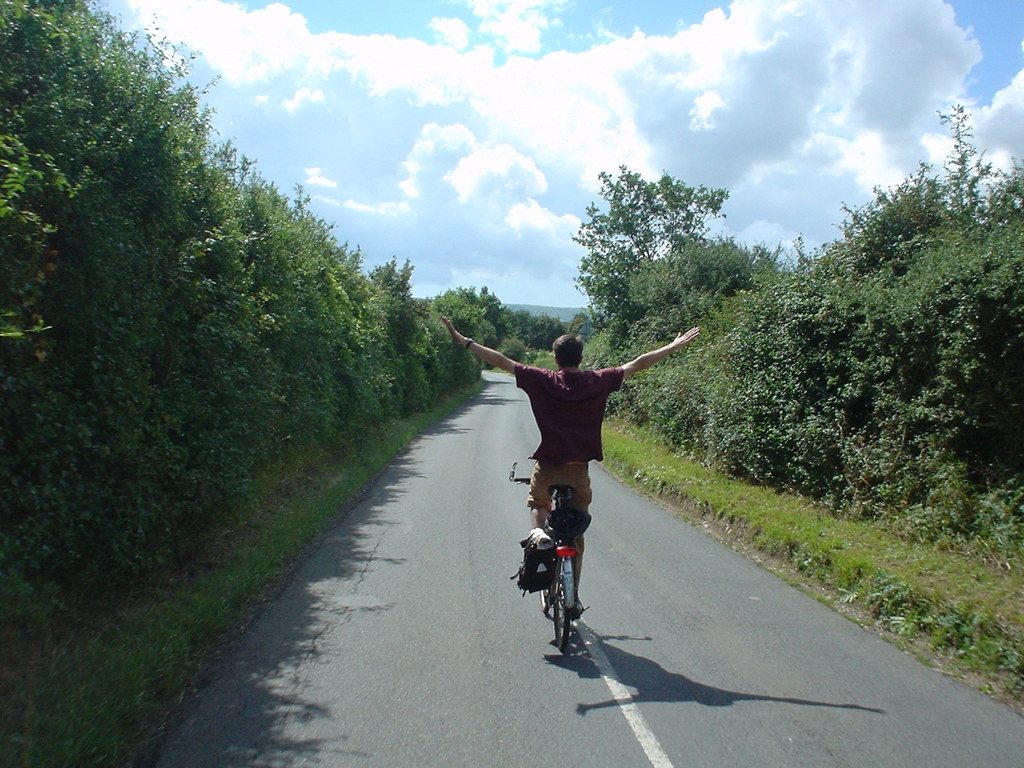Bike_away: (502, 458, 618, 697)
